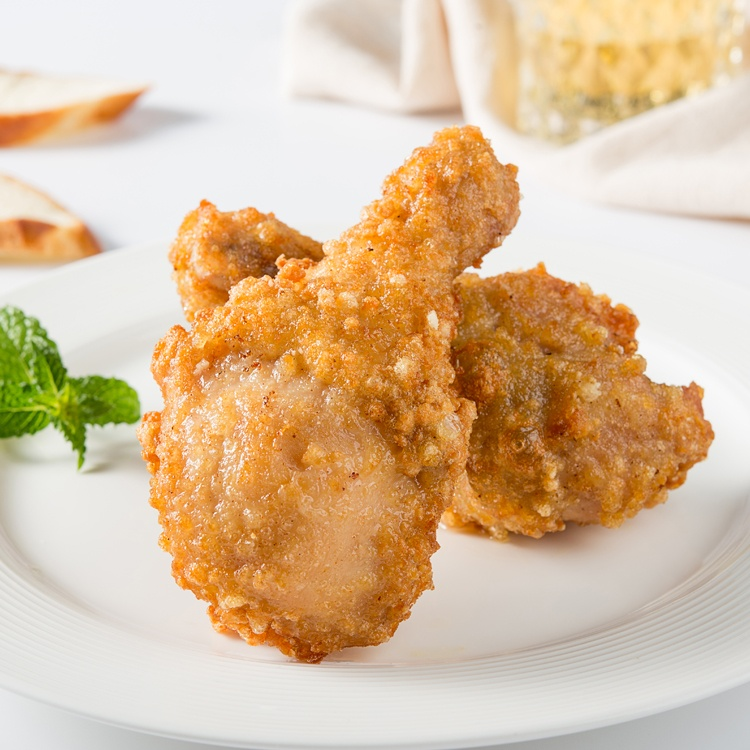ayam_goreng: (112, 110, 715, 664), (158, 177, 719, 552)
